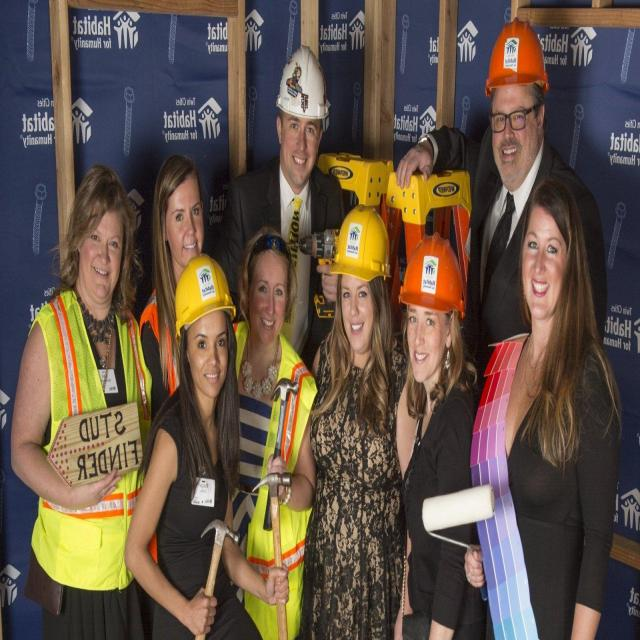Reflective-Jacket: (27, 295, 157, 588), (228, 328, 320, 636)
Safety-Helmet: (398, 232, 466, 314), (173, 249, 236, 334), (484, 16, 550, 97), (330, 198, 390, 284), (273, 39, 333, 123)
